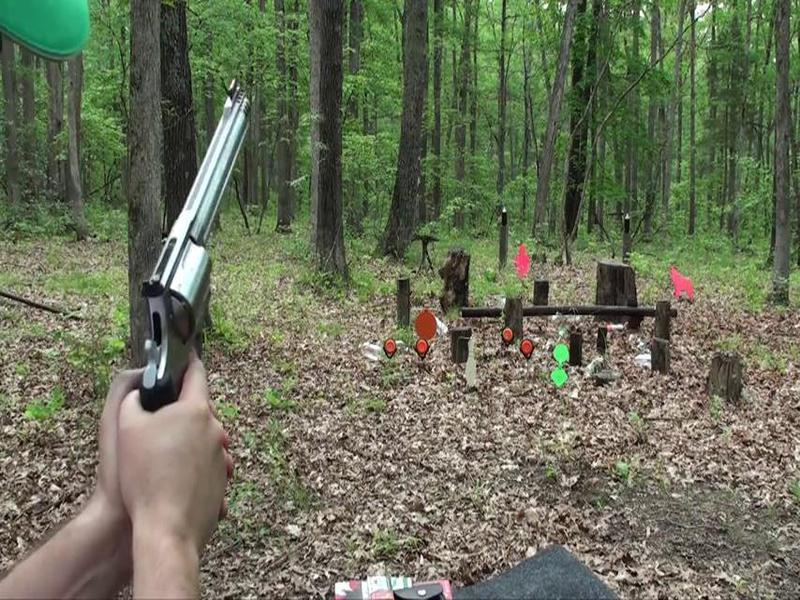Revolver: (120, 85, 279, 447)
